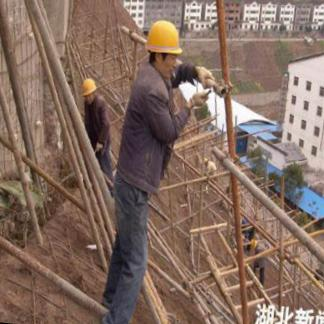helmet: (143, 19, 184, 56), (80, 77, 97, 98)
